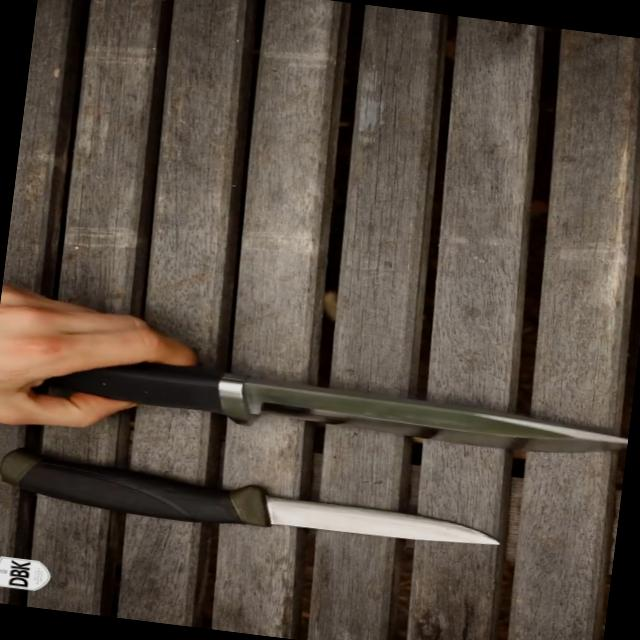knife: (61, 298, 635, 502), (203, 471, 535, 568)
